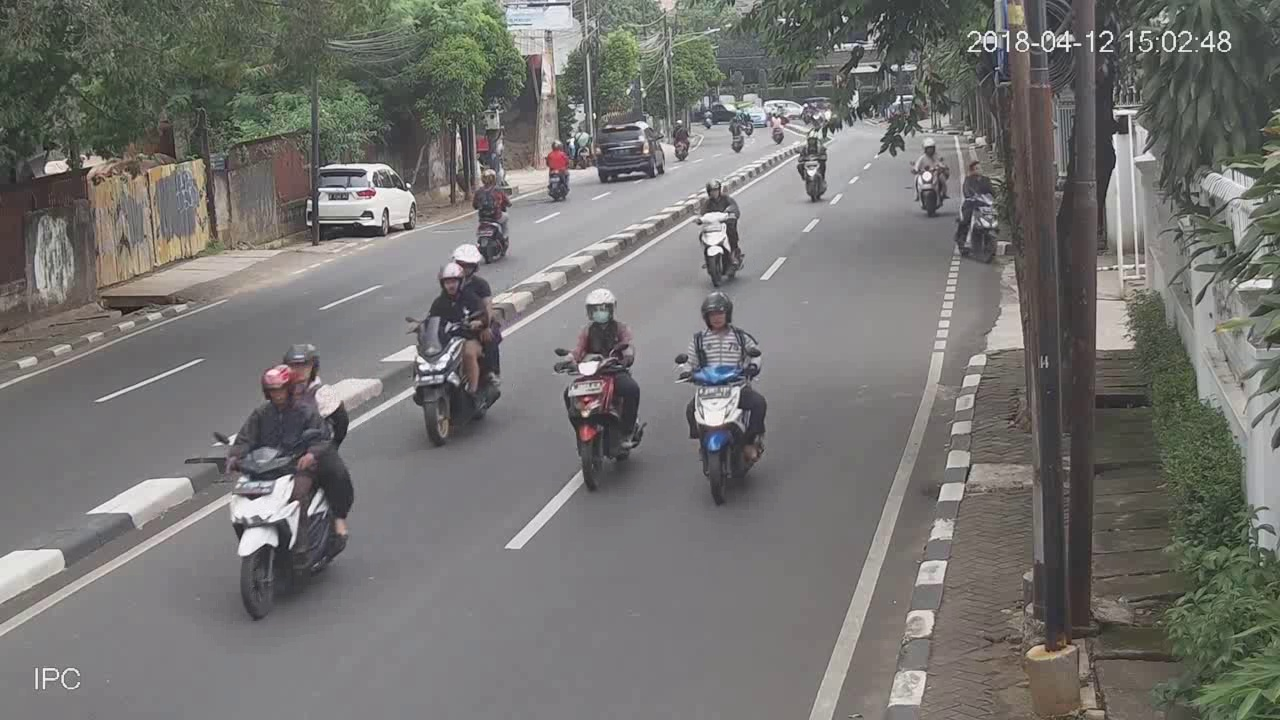car: (303, 151, 423, 242), (592, 119, 668, 180)
motorcycle: (215, 339, 362, 622), (676, 282, 774, 512), (405, 241, 510, 449), (550, 281, 651, 495), (954, 153, 1007, 269), (696, 174, 749, 285), (468, 166, 519, 262), (911, 128, 949, 220), (797, 128, 834, 211), (542, 127, 576, 207)
